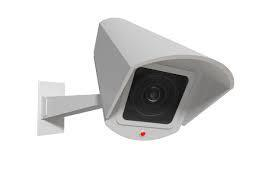tutu: (84, 14, 238, 150)
